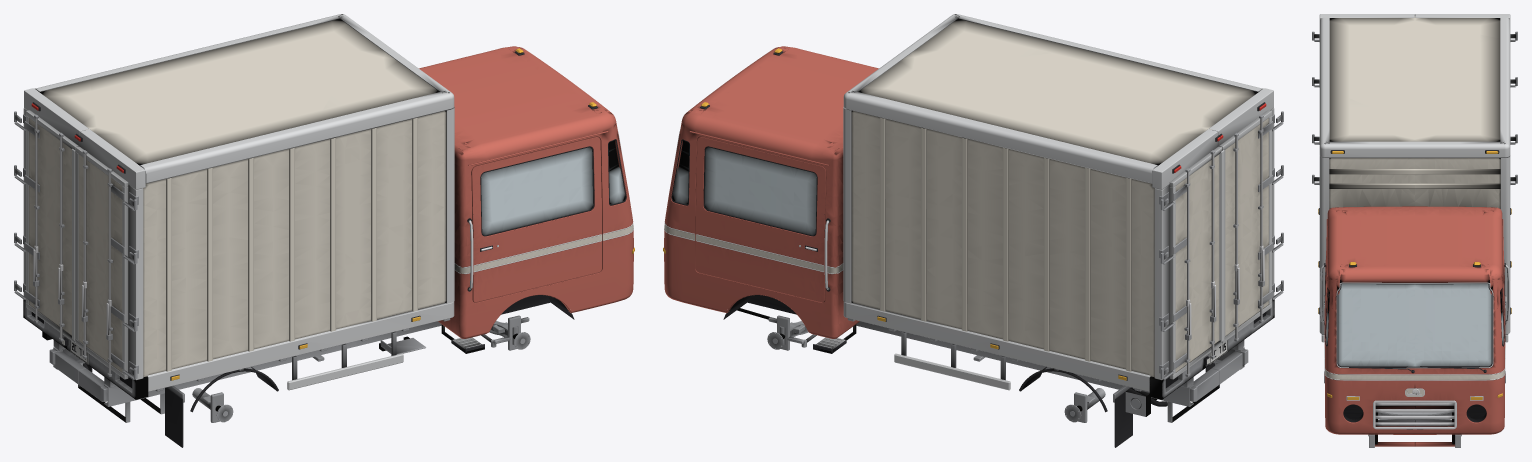
File: snail.glb
3 views of the same model, side by side, from view 1: azimuth 30°, elevation 25°; view 2: azimuth 150°, elevation 25°; view 3: azimuth 270°, elevation 25° (orthographic). The views are drawn at different scales.
Parts seen in each view (by area): view 1: BODY, P_trunk, P_door_FR, UNDER, PG_door_FR, GLASS, KNUCKLE_hub_FR; view 2: BODY, P_door_FL, P_trunk, UNDER, PG_door_FL, GLASS, KNUCKLE_hub_FL; view 3: BODY, GLASS, UNDER.
Part boxes in pixels (x1=…): BODY: x1=14, y1=14, x2=634, y2=399; P_trunk: x1=72, y1=146, x2=135, y2=379; P_door_FR: x1=471, y1=136, x2=601, y2=302; UNDER: x1=49, y1=295, x2=574, y2=447; PG_door_FR: x1=481, y1=147, x2=593, y2=234; GLASS: x1=608, y1=140, x2=625, y2=204; KNUCKLE_hub_FR: x1=493, y1=315, x2=530, y2=350; BODY: x1=663, y1=14, x2=1283, y2=416; P_door_FL: x1=696, y1=136, x2=826, y2=302; P_trunk: x1=1219, y1=110, x2=1283, y2=343; UNDER: x1=723, y1=295, x2=1248, y2=447; PG_door_FL: x1=704, y1=147, x2=816, y2=234; GLASS: x1=672, y1=140, x2=689, y2=204; KNUCKLE_hub_FL: x1=767, y1=315, x2=804, y2=350; BODY: x1=1312, y1=14, x2=1517, y2=446; GLASS: x1=1326, y1=284, x2=1503, y2=366; UNDER: x1=1321, y1=334, x2=1508, y2=447.
Size of the model in its own units: 5.07 by 2.7 by 2.05.
